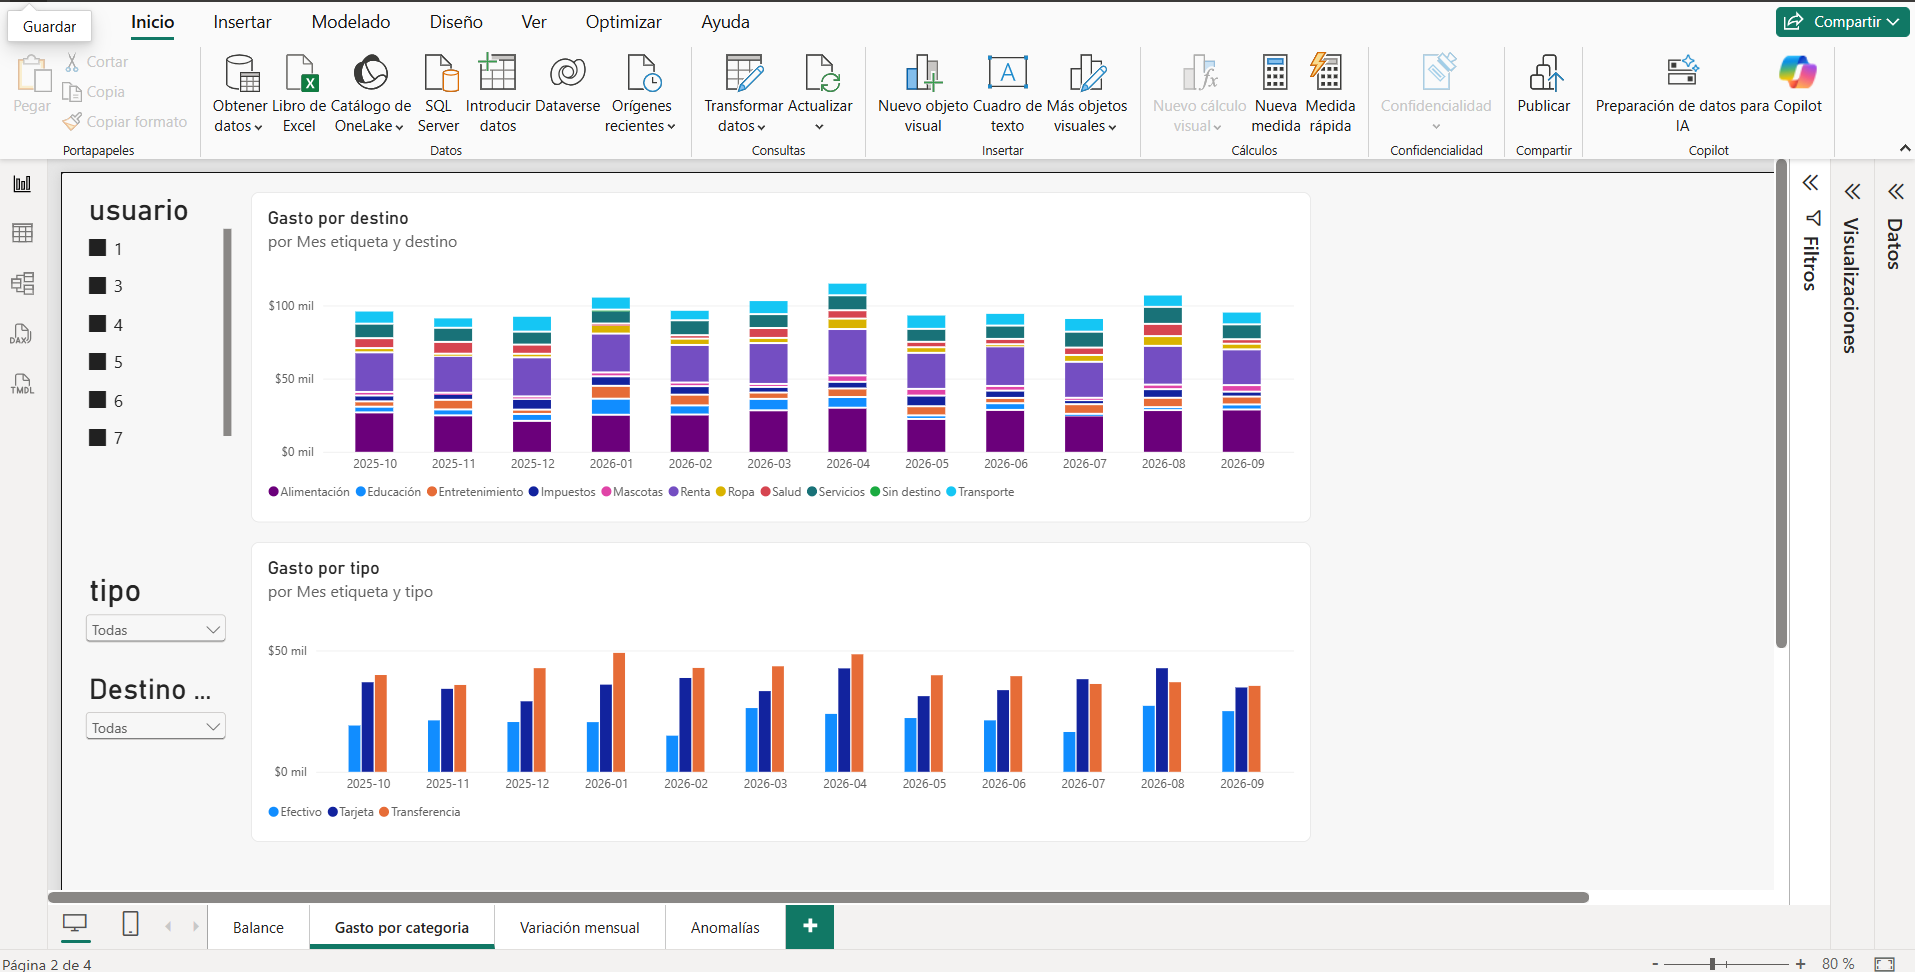

What the dashboard file says about the page in this screenshot:
{"tool":"powerbi","page":{"name":"Gasto por categoria","canvas":[1920,1080],"ordinal":1},"visuals":[{"type":"slicer","fields":{"Values":["dim_usuario.usuario_id"]},"box":[20,20,150,255.7],"z":0},{"type":"columnChart","fields":{"Category":["dim_mes.Mes etiqueta"],"Series":["gasto_por_destino_mensual.destino"],"Y":["gasto_por_destino_mensual.Gasto por destino"]},"box":[190,20,1060,330],"z":1},{"type":"clusteredColumnChart","fields":{"Category":["dim_mes.Mes etiqueta"],"Series":["gasto_por_tipo_mensual.tipo"],"Y":["gasto_por_tipo_mensual.Gasto por tipo"]},"box":[190,370,1060,300],"z":2},{"type":"slicer","fields":{"Values":["gasto_por_destino_mensual.destino"]},"box":[20,500,150,70],"z":3},{"type":"slicer","fields":{"Values":["gasto_por_tipo_mensual.tipo"]},"box":[20,400,150,70],"z":4}]}

Visuals, with their boxes on the page's 1920x1080 design canvas (x1, y1, x2, y2). These are canvas units, not pixel positions in the 1915x972 screenshot, which may show the page scaled, cropped or inside an application window:
slicer - dim_usuario.usuario_id: bbox=[20, 20, 170, 276]
columnChart - dim_mes.Mes etiqueta x gasto_por_destino_mensual.destino: bbox=[190, 20, 1250, 350]
clusteredColumnChart - dim_mes.Mes etiqueta x gasto_por_tipo_mensual.tipo: bbox=[190, 370, 1250, 670]
slicer - gasto_por_destino_mensual.destino: bbox=[20, 500, 170, 570]
slicer - gasto_por_tipo_mensual.tipo: bbox=[20, 400, 170, 470]
